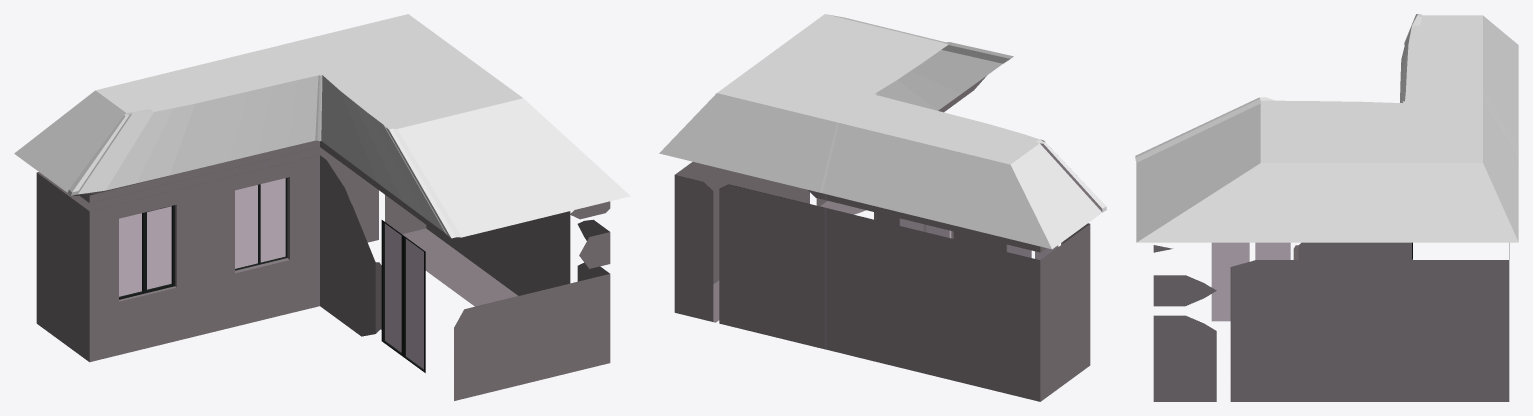
File: building.fbx
3 views of the same model, side by side, from view 1: azimuth 30°, elevation 25°; view 2: azimuth 150°, elevation 25°; view 3: azimuth 270°, elevation 25° (orthographic). The views are drawn at different scales.
Parts seen in each view (by area): view 1: walls, walls.001, roof3, roof6, roof1, glass, roof7, roof2, frames, house; view 2: walls, roof4, roof3, roof2, roof7, walls.001, glass, roof9; view 3: walls.001, roof5, roof3, walls, roof6, roof4, glass, roof1.
Boxes of the visible parts, x1,y1,x2,y2 form: walls: (36,140,483,362); walls.001: (324,144,610,400); roof3: (96,14,522,129); roof6: (389,98,630,238); roof1: (78,75,318,194); glass: (119,178,423,369); roof7: (321,75,444,232); roof2: (14,90,131,195); frames: (119,178,425,372); house: (72,152,381,333); walls: (674,162,1090,401); roof4: (659,93,1051,249); roof3: (717,14,1045,164); roof2: (1010,139,1106,249); roof7: (875,50,1002,110); walls.001: (729,76,986,232); glass: (900,218,1058,260); roof9: (941,42,1013,63); walls.001: (1153,242,1397,401); roof5: (1137,163,1518,242); roof3: (1259,14,1482,162); walls: (1397,242,1509,401); roof6: (1135,97,1260,242); roof4: (1483,15,1518,241); glass: (1211,242,1290,321); roof1: (1400,27,1411,102).
Size of the model in its own units: 1580 by 842 by 1294.
